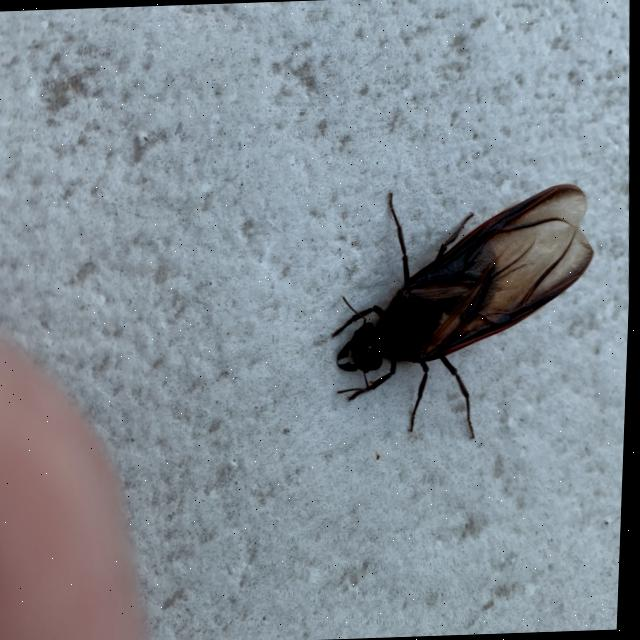Alive-Female-Alate: (325, 182, 604, 444)
